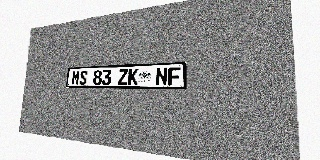plate: (66, 62, 187, 89)
